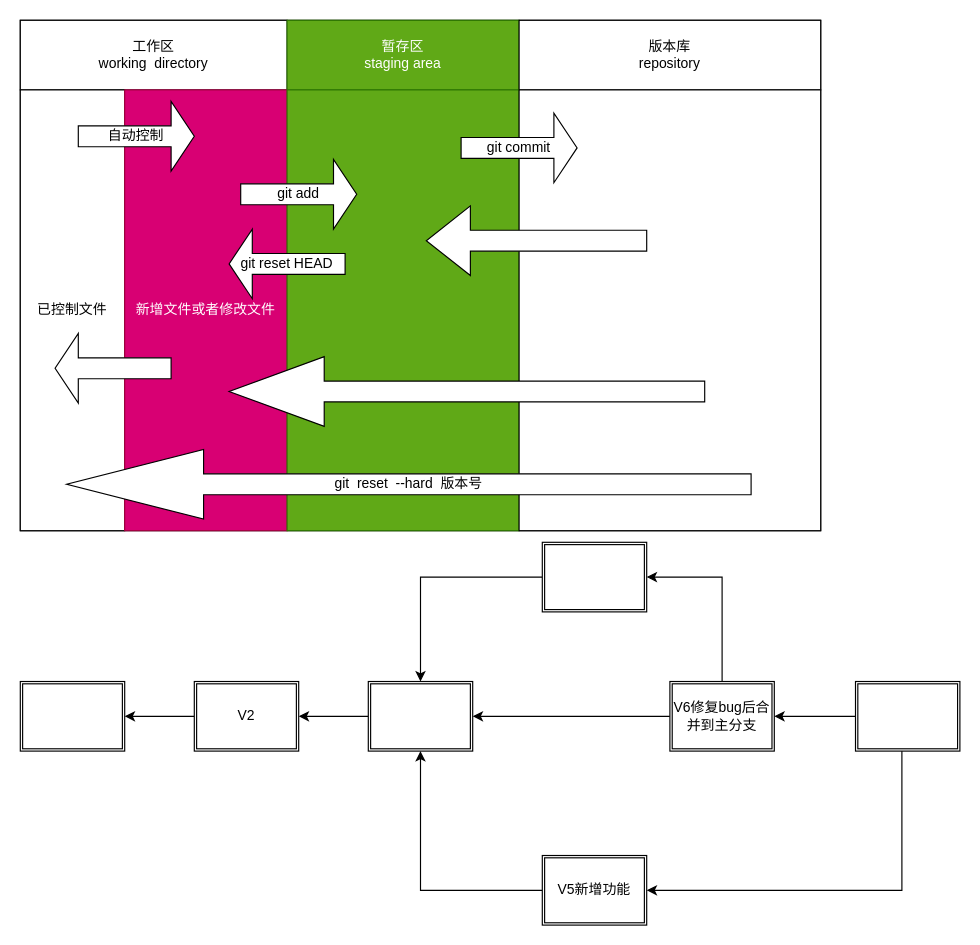
Some shapes in this 980 by 945 pixel diagram are drawn without their labels. The shapes that lost their labels are listed below. From the top down, each one's centre as x and y in pixels, then its label:
At pixel 536 240: "git reset --soft 版本号".
At pixel 112 367: "git checkout".
At pixel 466 391: "git reset --mix 版本号".
At pixel 594 576: "V4bug修复".
At pixel 72 715: "V1".
At pixel 420 715: "V3".
At pixel 907 715: "V7新增功能合并".
